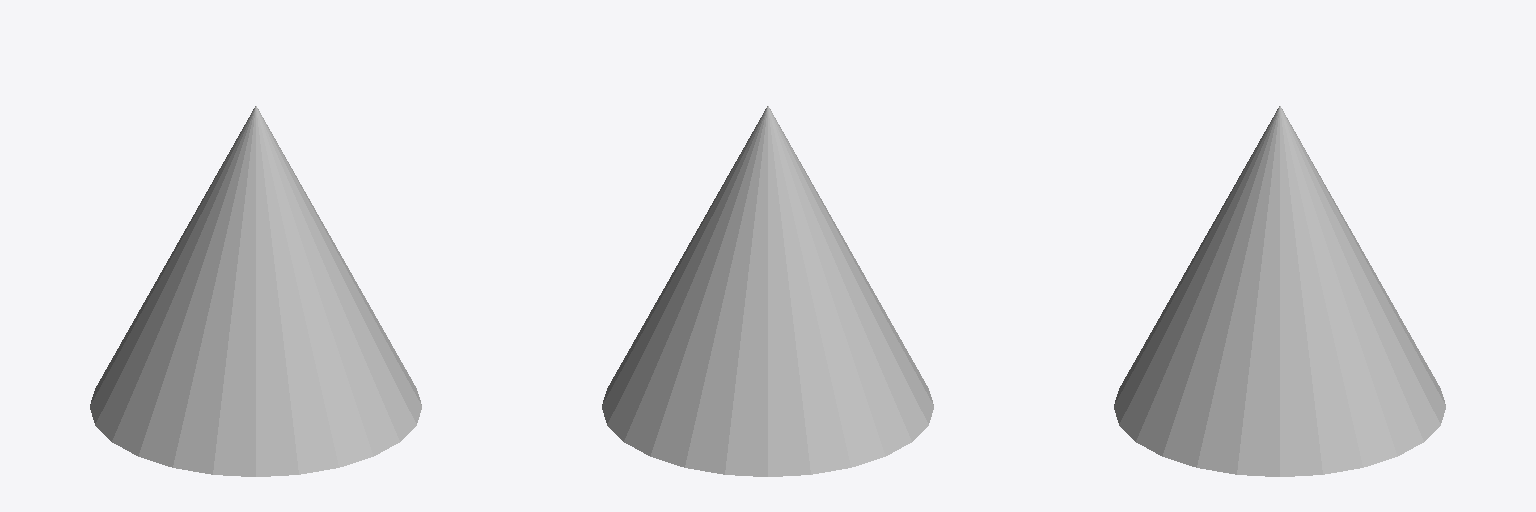
File: Spotlight.obj
3 renders of one model, left to right at view 1: azimuth 30°, elevation 25°; view 2: azimuth 150°, elevation 25°; view 3: azimuth 270°, elevation 25°, orthographic.
Visible parts, largest first — view 1: Cone01; view 2: Cone01; view 3: Cone01.
Part boxes in pixels (bbox=[...]): Cone01: bbox=[90, 106, 421, 476]; Cone01: bbox=[602, 106, 933, 476]; Cone01: bbox=[1114, 106, 1445, 476].
Size of the model in its own units: 0.1 by 0.1 by 0.1.